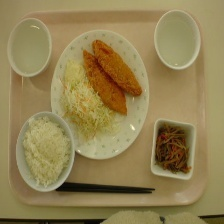rice: (19, 115, 71, 188)
